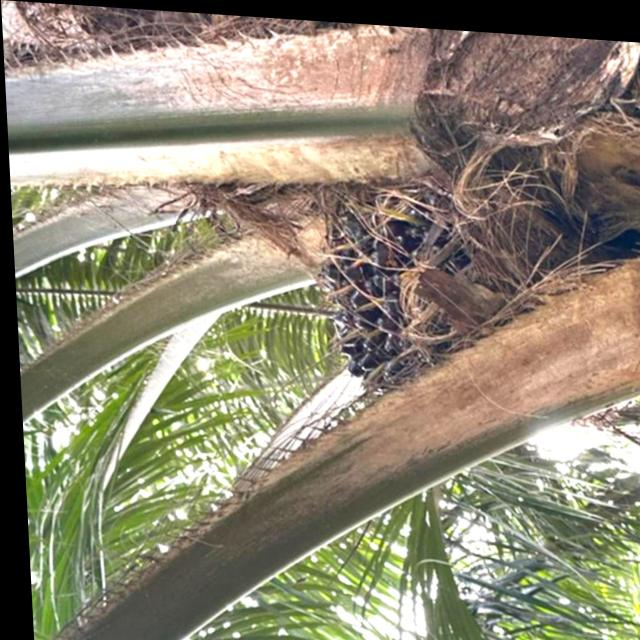almost: (310, 190, 477, 400)
